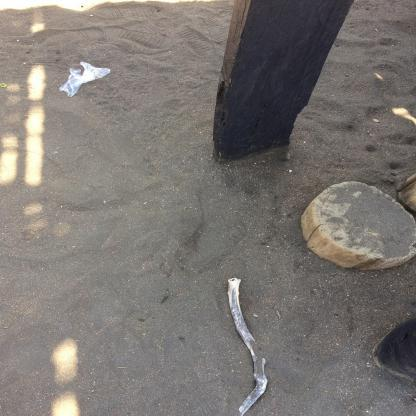plastik: (60, 62, 112, 98)
